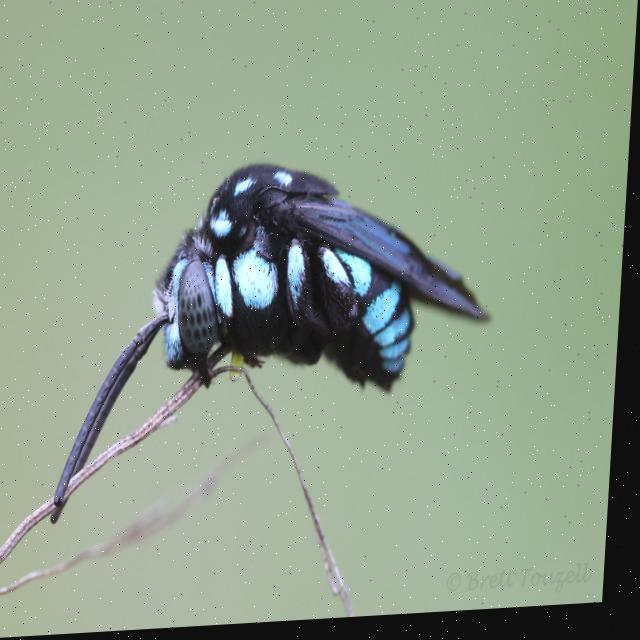Thyreus: (48, 123, 512, 558)
